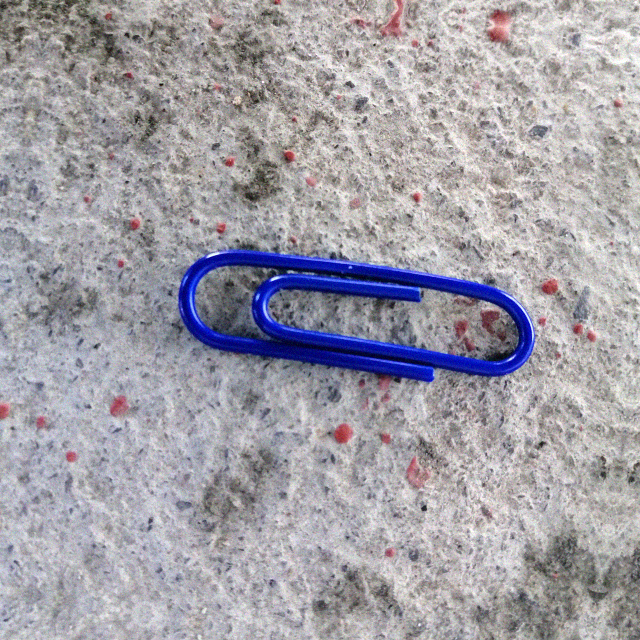pin: (178, 236, 536, 395)
